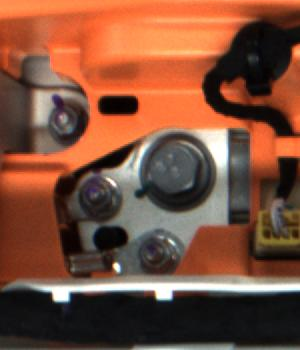nut_b: (137, 129, 212, 208)
screw_s: (133, 227, 174, 273), (77, 173, 117, 214), (43, 101, 82, 140)
